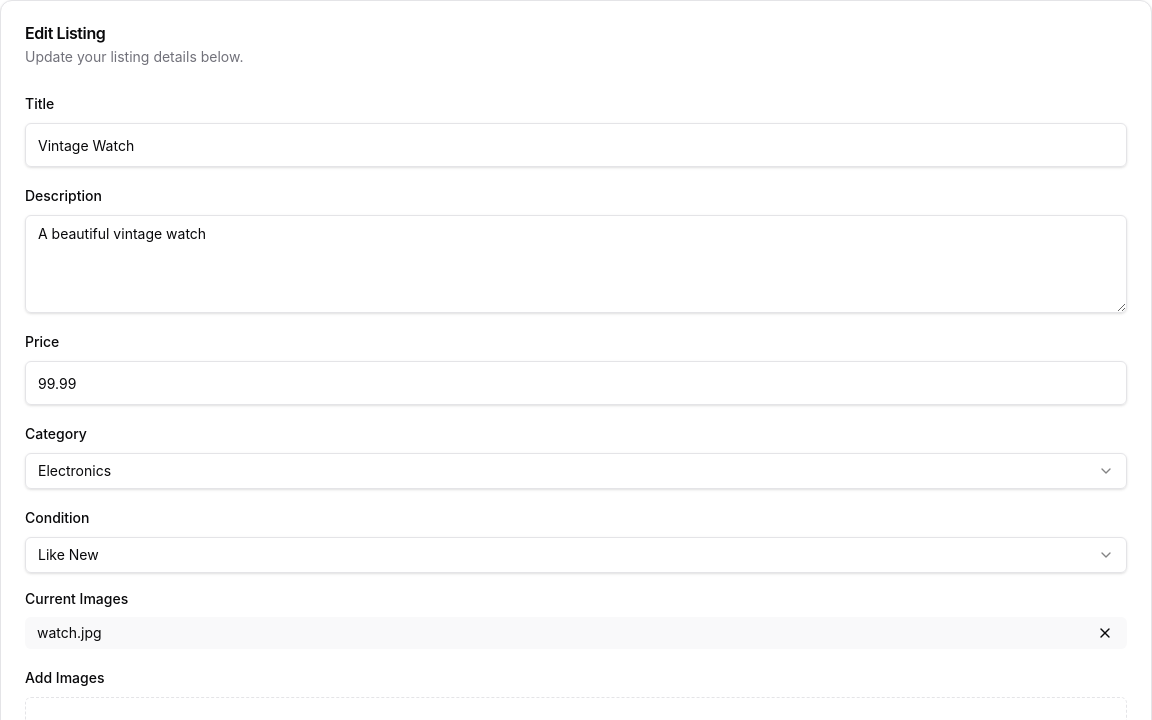
Test case: CreateListingForm › edit mode › removes an existing image when the remove button is clicked
Expected: the text "watch.jpg" is shown, [37,623,102,643]
What coordinates should you click on to do the following:
click the button named "remove"
I would click on:
 (1105, 633)
Its box is [1095,623,1115,643].
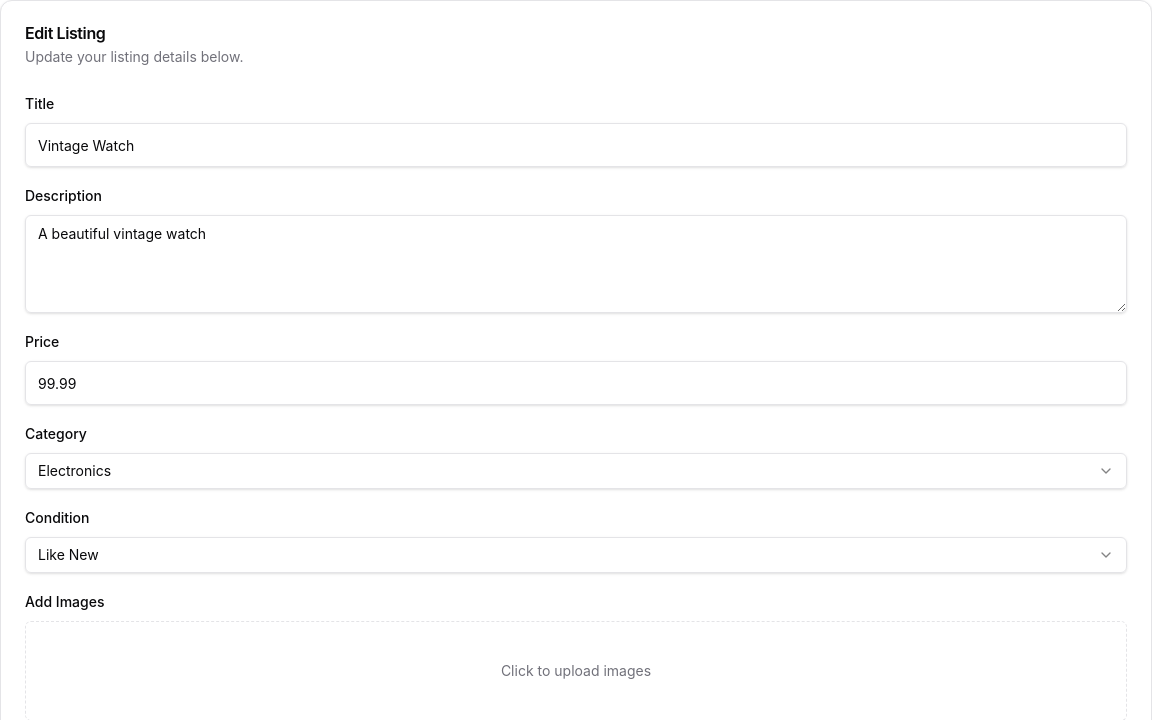
Expected: the text "watch.jpg" is gone
